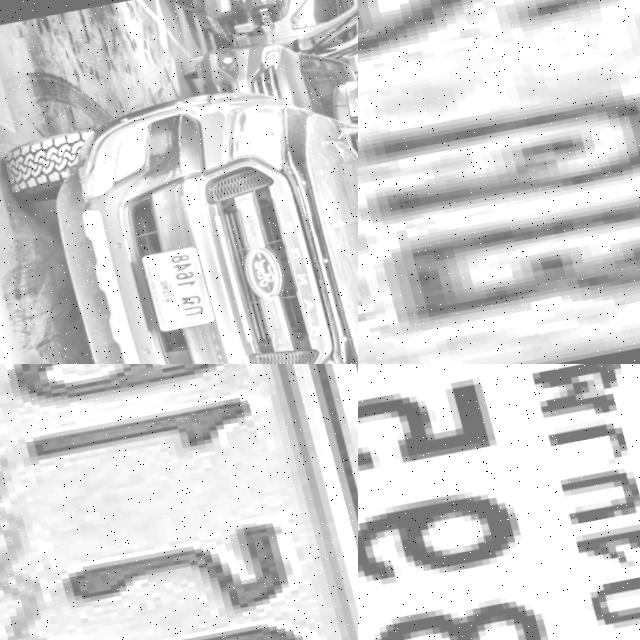license-plate: (358, 0, 640, 364), (0, 364, 358, 640), (358, 364, 640, 640), (131, 245, 210, 334)
